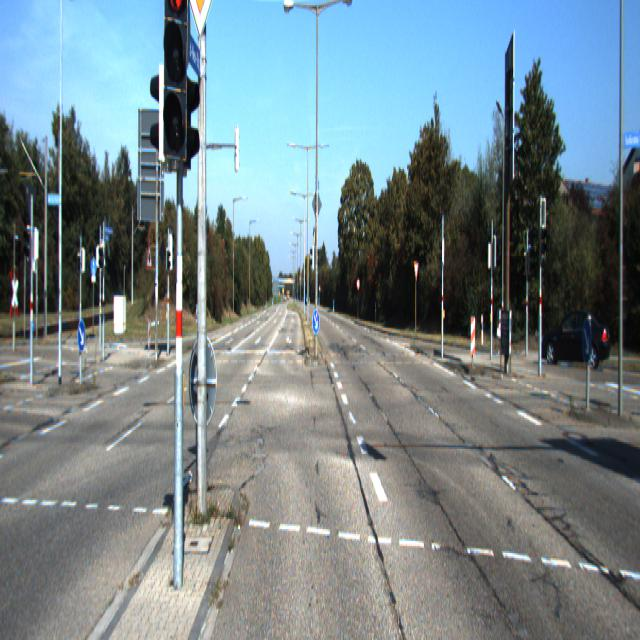Car: (540, 302, 608, 374)
